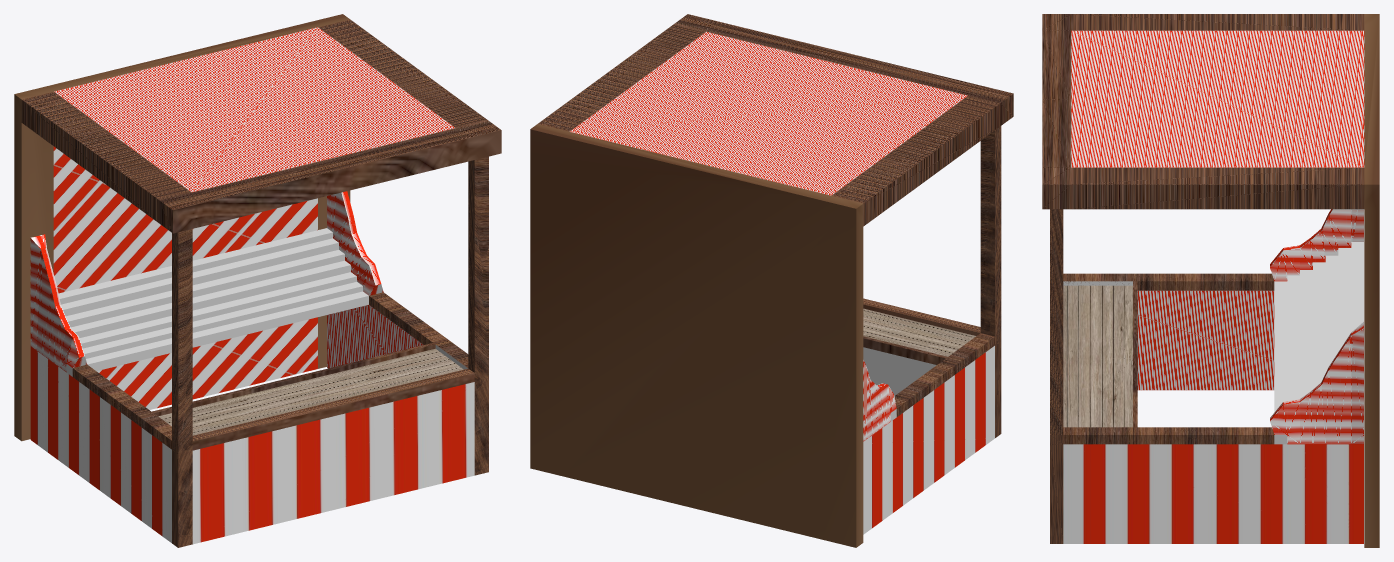
File: Booth.fbx
The picture shows the model from 3 angles, left to right: view 1: azimuth 30°, elevation 25°; view 2: azimuth 150°, elevation 25°; view 3: azimuth 270°, elevation 25°; orthographic projection. The views are drawn at different scales.
Parts seen in each view (by area): view 1: Booth; view 2: Booth; view 3: Booth.
Boxes of the visible parts, x1,y1,x2,y2 form: Booth: (14, 14, 501, 547); Booth: (530, 14, 1013, 547); Booth: (1042, 14, 1379, 547).
Size of the model in its own units: 4867 by 4848 by 4073.
